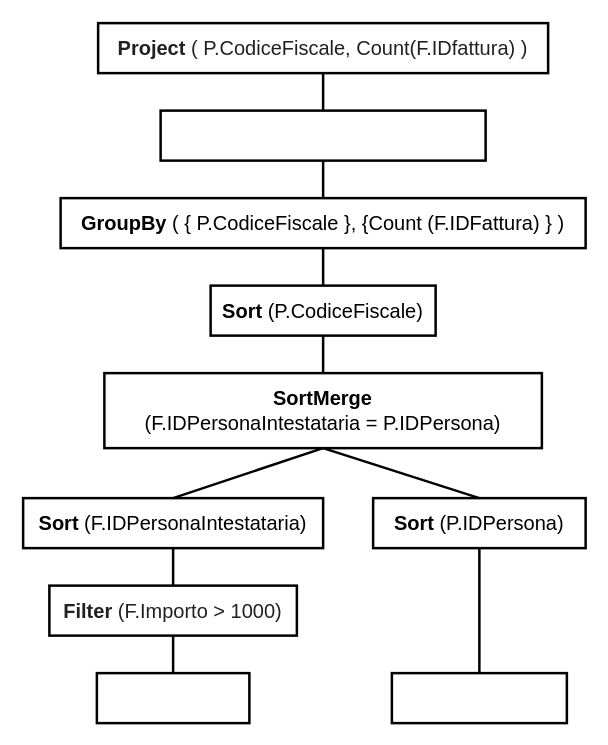
This 608x745 diagram has some shape labels left out. The centre of each missing label's shape, as x and y in pixels:
"Filter ( Count(F.IDFattura) > 3 )" belongs at (x=322, y=135).
"TableScan (F)" belongs at (x=172, y=697).
"TableScan (P)" belongs at (x=479, y=697).
